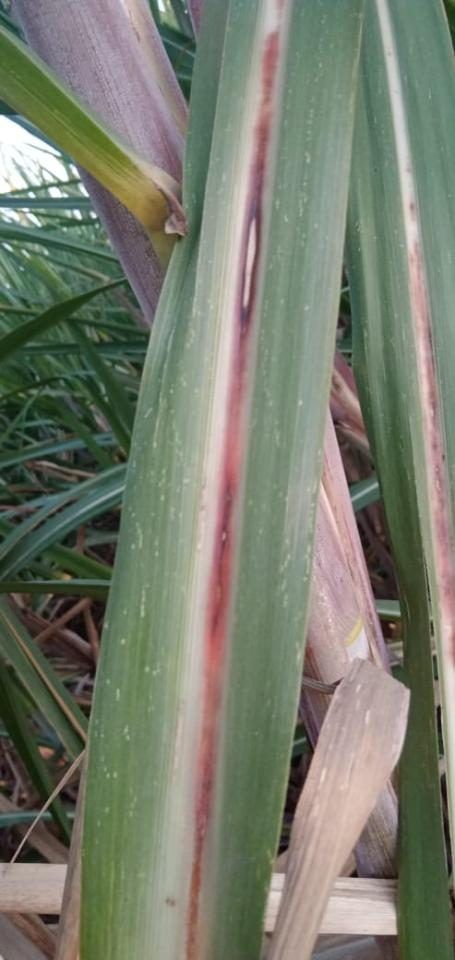RedRot: (186, 26, 281, 959)
